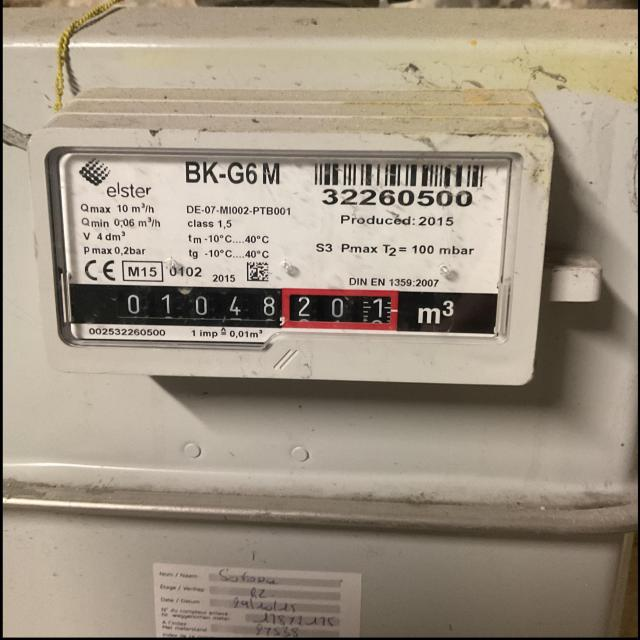gaz_meter: (49, 146, 501, 336)
indication: (110, 283, 398, 335)
